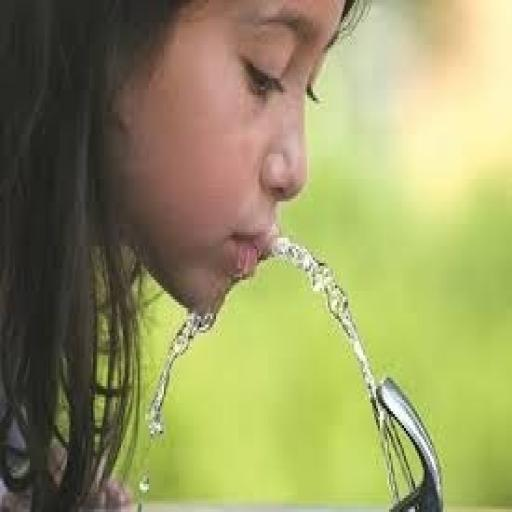drinking: (112, 41, 512, 508)
